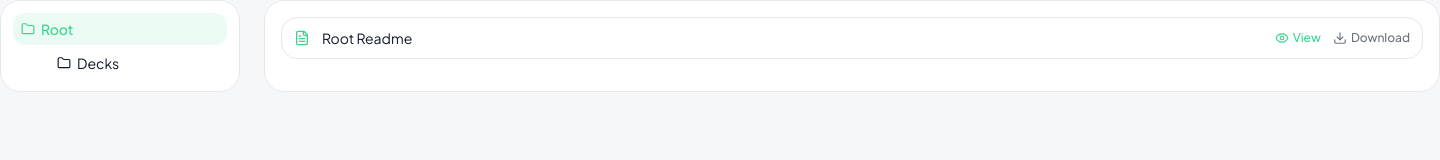
HubFilesTab (read) › navigates into a folder
The width and height of the screenshot is (1440, 160).
Click the button "Decks" at (120, 63), box x1=13 y1=47 x2=227 y2=79
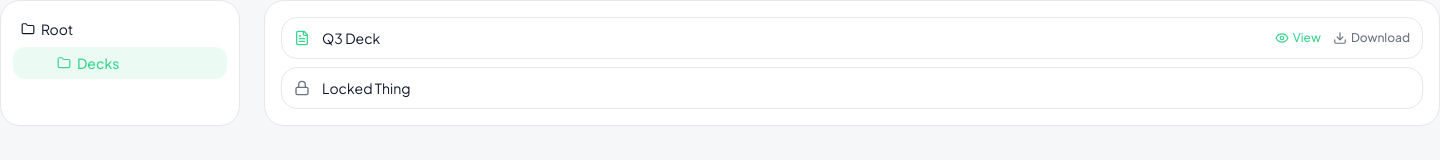
Expected: the text "Q3 Deck" is shown, x1=322 y1=29 x2=380 y2=47
